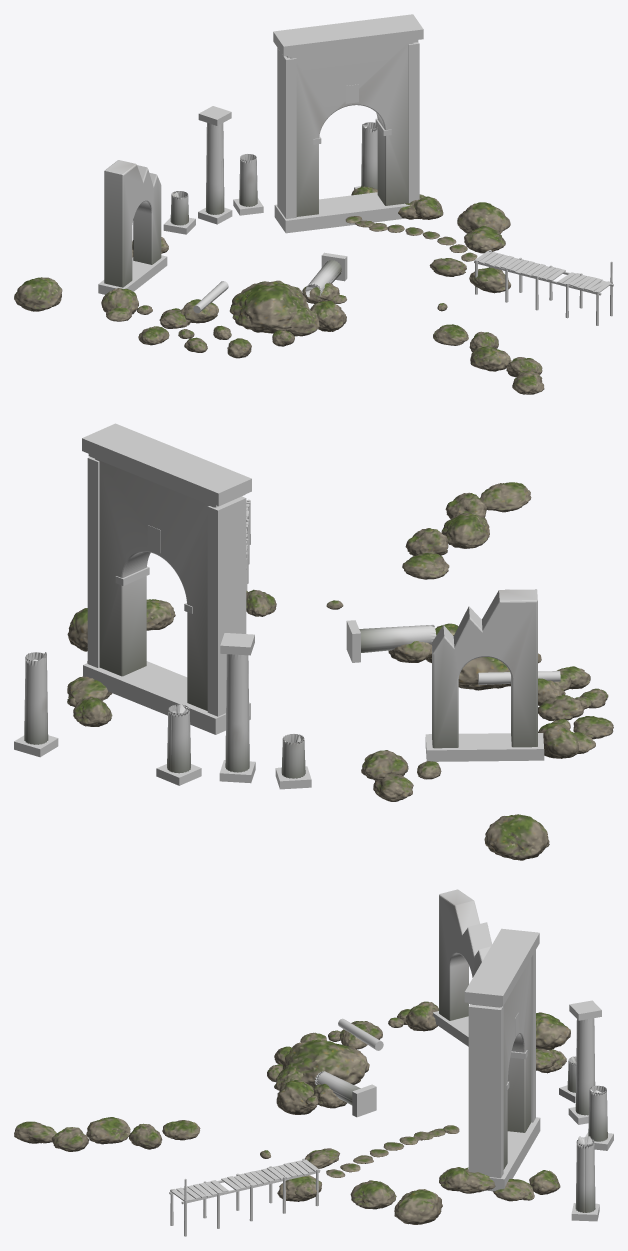
File: props-m.glb
The picture shows the model from 3 angles, top to bottom: view 1: azimuth 30°, elevation 25°; view 2: azimuth 150°, elevation 25°; view 3: azimuth 270°, elevation 25°; orthographic projection. The views are drawn at different scales.
Visible parts, largest first — view 1: stoneV, rock, stone, wood, bark; view 2: stoneV, stone, rock, bark; view 3: rock, stone, stoneV, wood, bark.
Part boxes in pixels (x1=…): stoneV: x1=104, y1=42, x2=413, y2=298; rock: x1=14, y1=186, x2=544, y2=394; stone: x1=98, y1=14, x2=423, y2=294; wood: x1=474, y1=250, x2=613, y2=295; bark: x1=193, y1=250, x2=612, y2=325; stoneV: x1=24, y1=459, x2=537, y2=778; stone: x1=14, y1=423, x2=544, y2=789; rock: x1=67, y1=482, x2=613, y2=860; bark: x1=246, y1=499, x2=560, y2=684; rock: x1=14, y1=1001, x2=570, y2=1224; stone: x1=352, y1=928, x2=613, y2=1221; stoneV: x1=315, y1=889, x2=607, y2=1212; wood: x1=169, y1=1159, x2=320, y2=1204; bark: x1=170, y1=1018, x2=383, y2=1236.
Size of the model in its own units: 25.03 by 12.33 by 28.79.
